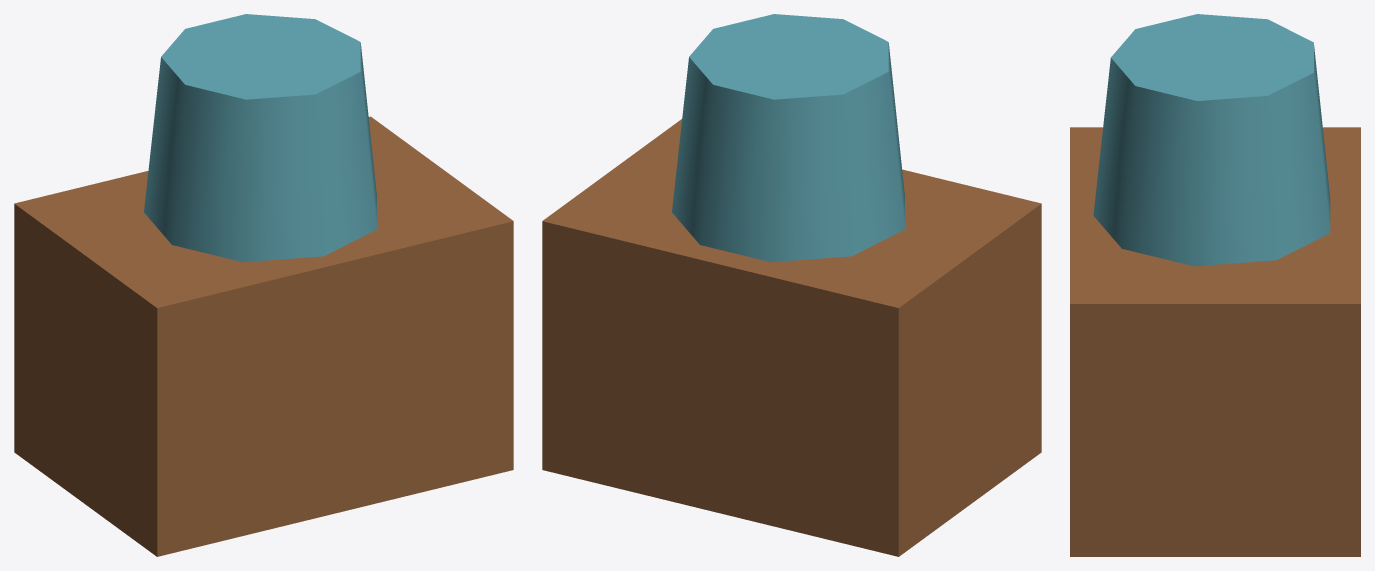
The model's file is cabinet.glb.
3 views of the same model, side by side, from view 1: azimuth 30°, elevation 25°; view 2: azimuth 150°, elevation 25°; view 3: azimuth 270°, elevation 25° (orthographic).
Parts seen in each view (by area): view 1: cabinet_base, cabinet_detail; view 2: cabinet_base, cabinet_detail; view 3: cabinet_base, cabinet_detail.
Part boxes in pixels (x1,y1,x2,y2): cabinet_base: [14, 116, 513, 556]; cabinet_detail: [144, 14, 376, 262]; cabinet_base: [542, 119, 1041, 556]; cabinet_detail: [672, 14, 904, 262]; cabinet_base: [1070, 127, 1360, 556]; cabinet_detail: [1093, 14, 1330, 266].
Size of what is drawn, in the model's own units: 1.8 by 1.95 by 1.25.
